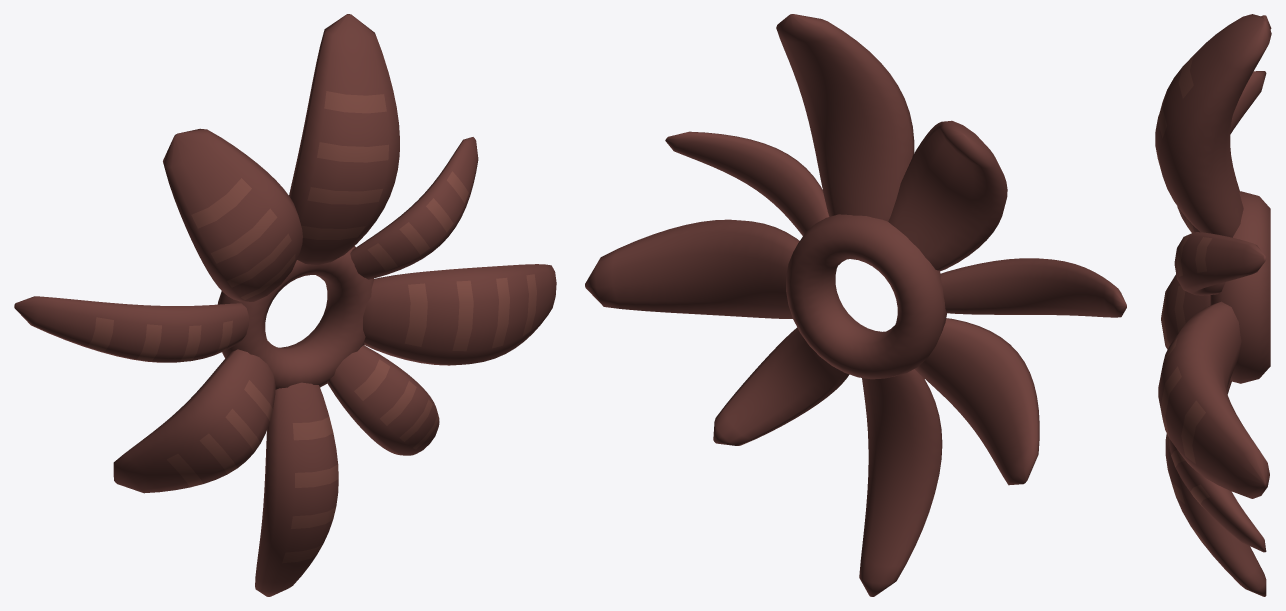
Rendered from Tastkranz.fbx.
The picture shows the model from 3 angles, left to right: view 1: azimuth 30°, elevation 25°; view 2: azimuth 150°, elevation 25°; view 3: azimuth 270°, elevation 25°; orthographic projection. The views are drawn at different scales.
Parts seen in each view (by area): view 1: Tastkranz; view 2: Tastkranz; view 3: Tastkranz.
Part boxes in pixels (x1=…): Tastkranz: x1=14, y1=14, x2=556, y2=596; Tastkranz: x1=585, y1=14, x2=1126, y2=596; Tastkranz: x1=1155, y1=14, x2=1271, y2=596.
Size of the model in its own units: 17.38 by 17.28 by 2.95.
